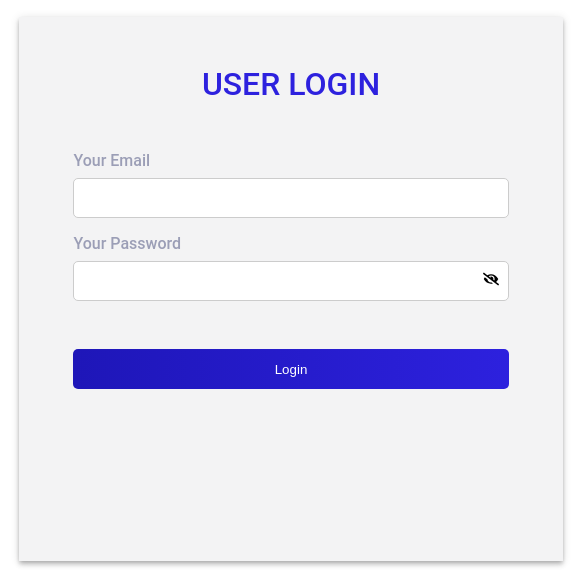
Login › should show error message when email or password are empty
Click the button "Login" at (291, 369), box left=73, top=349, right=509, bottom=389
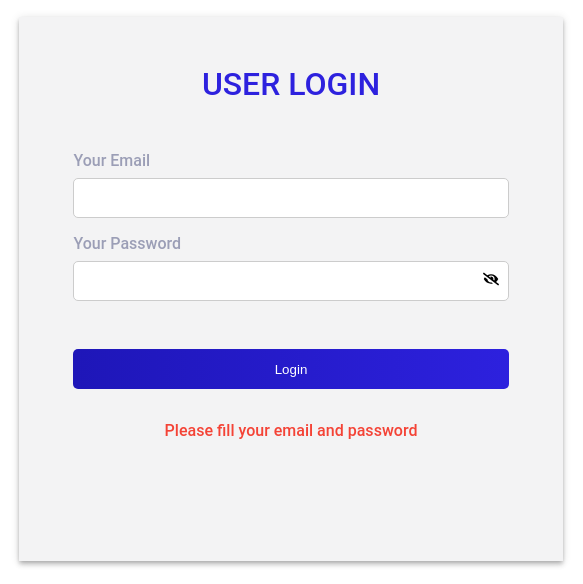
Expected: the text "Please fill your email and password" is shown, left=165, top=421, right=417, bottom=440
